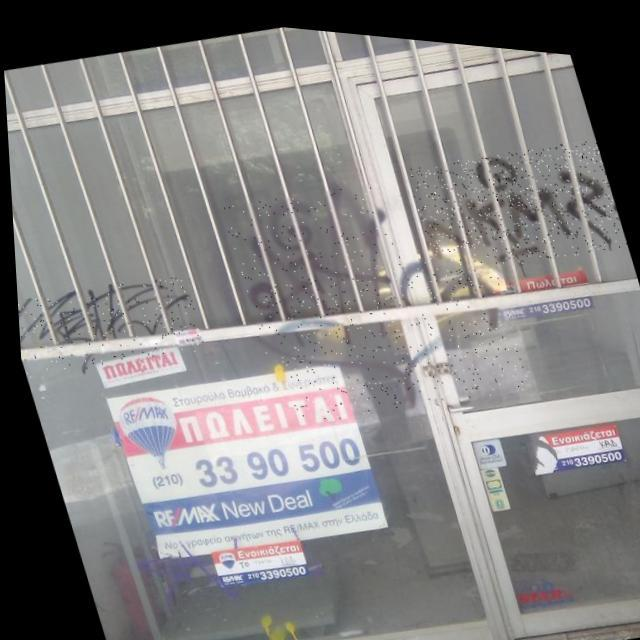-: (252, 220, 530, 436), (216, 163, 421, 365), (402, 111, 628, 282), (12, 258, 206, 391)
